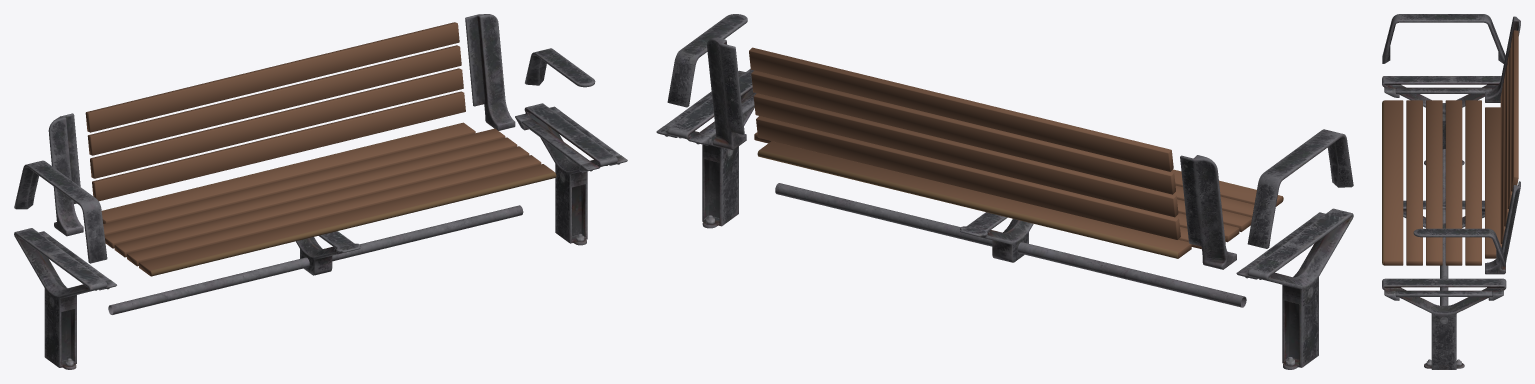
File: bench.glb
The picture shows the model from 3 angles, left to right: view 1: azimuth 30°, elevation 25°; view 2: azimuth 150°, elevation 25°; view 3: azimuth 270°, elevation 25°; orthographic projection. The views are drawn at different scales.
Visible parts, largest first — view 1: PH_bench; view 2: PH_bench; view 3: PH_bench.
Part boxes in pixels (x1,y1,x2,y2): PH_bench: [14, 14, 627, 369]; PH_bench: [656, 14, 1353, 369]; PH_bench: [1382, 14, 1520, 369].
Bounding box in the file's own units: 2.45 × 0.867 × 0.6703.
Materials: 3 (3 with a texture image).
